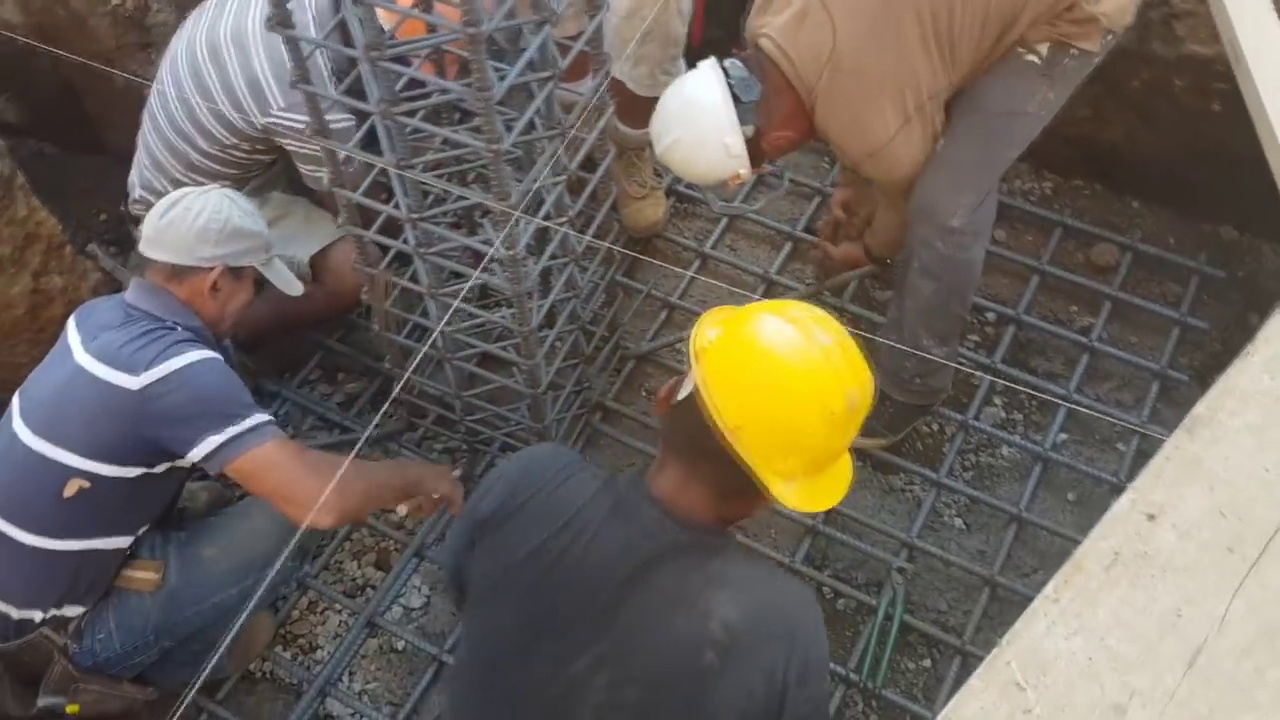helmet: (686, 303, 874, 512), (653, 35, 755, 181), (366, 2, 470, 81)
helmet-off: (124, 184, 289, 333)
helmet-on: (653, 299, 869, 541), (646, 28, 816, 207), (320, 0, 477, 104)
person: (0, 176, 450, 719), (630, 0, 1140, 448), (418, 302, 872, 702), (117, 0, 480, 382)
